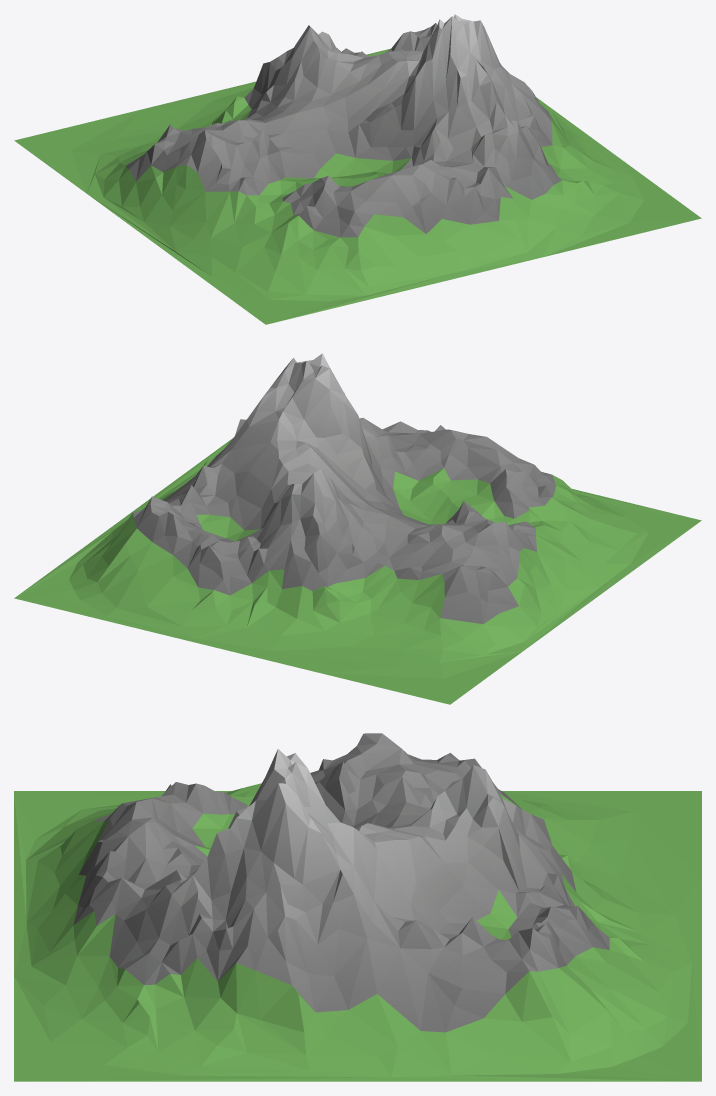
File: SM_Nature_Landscape_07.fbx
3 renders of one model, top to bottom at view 1: azimuth 30°, elevation 25°; view 2: azimuth 150°, elevation 25°; view 3: azimuth 270°, elevation 25°, orthographic. The views are drawn at different scales.
Visible parts, largest first — view 1: SM_Nature_Landscape_07; view 2: SM_Nature_Landscape_07; view 3: SM_Nature_Landscape_07.
Boxes of the visible parts, x1=… form: SM_Nature_Landscape_07: x1=14, y1=14, x2=701, y2=324; SM_Nature_Landscape_07: x1=14, y1=353, x2=701, y2=704; SM_Nature_Landscape_07: x1=14, y1=733, x2=701, y2=1081.
Bounding box in the file's own units: 100 × 37.04 × 100.
